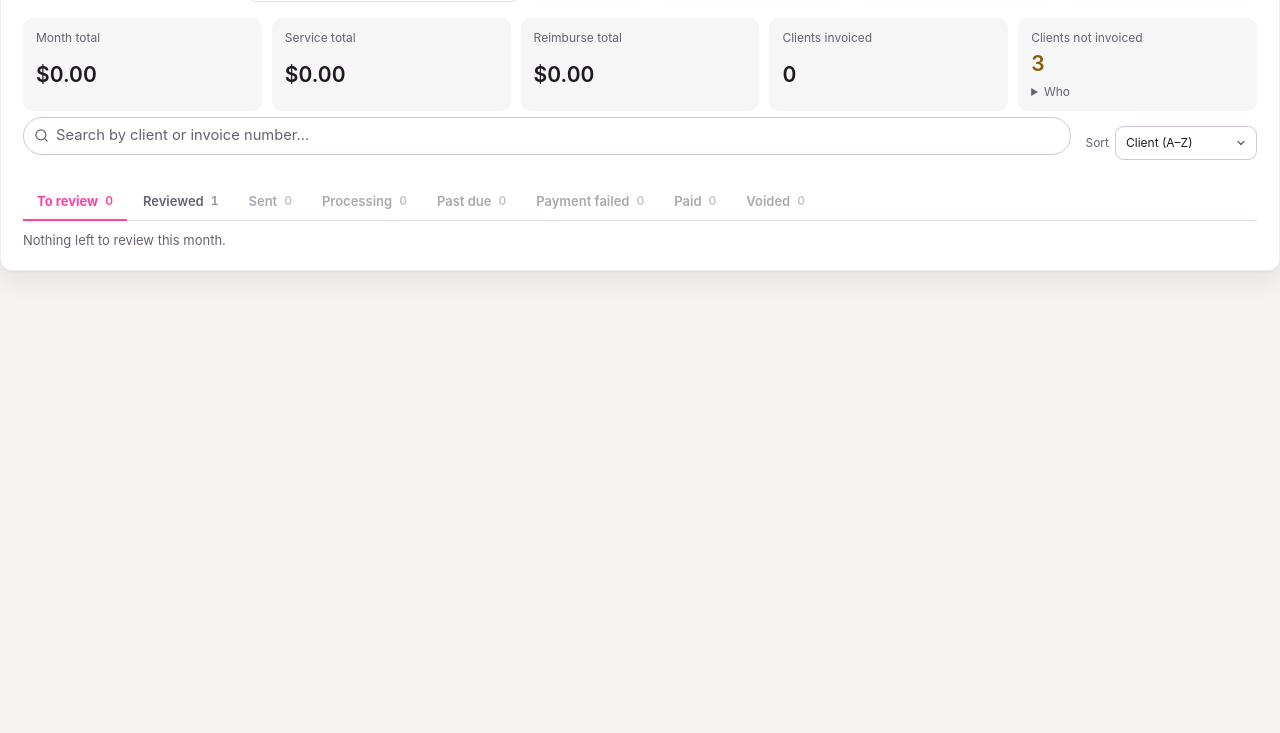
InvoiceMonthRun — who the invoice goes to › counts the recipients on the row and names them in the editor
The width and height of the screenshot is (1280, 733).
Click the tab "Reviewed 1": (181, 202) [129,182,232,221]
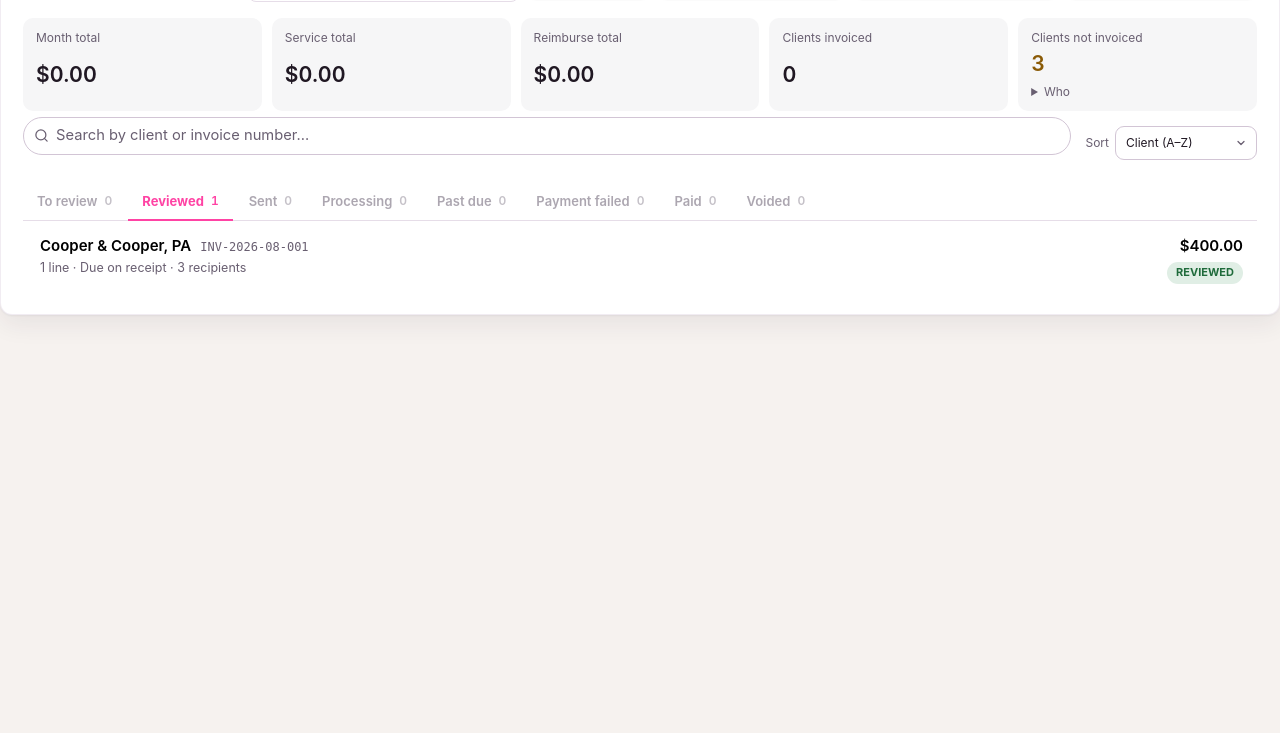
Click the text "INV-2026-08-001": (254, 248) [200,239,309,257]
(page scrolled)
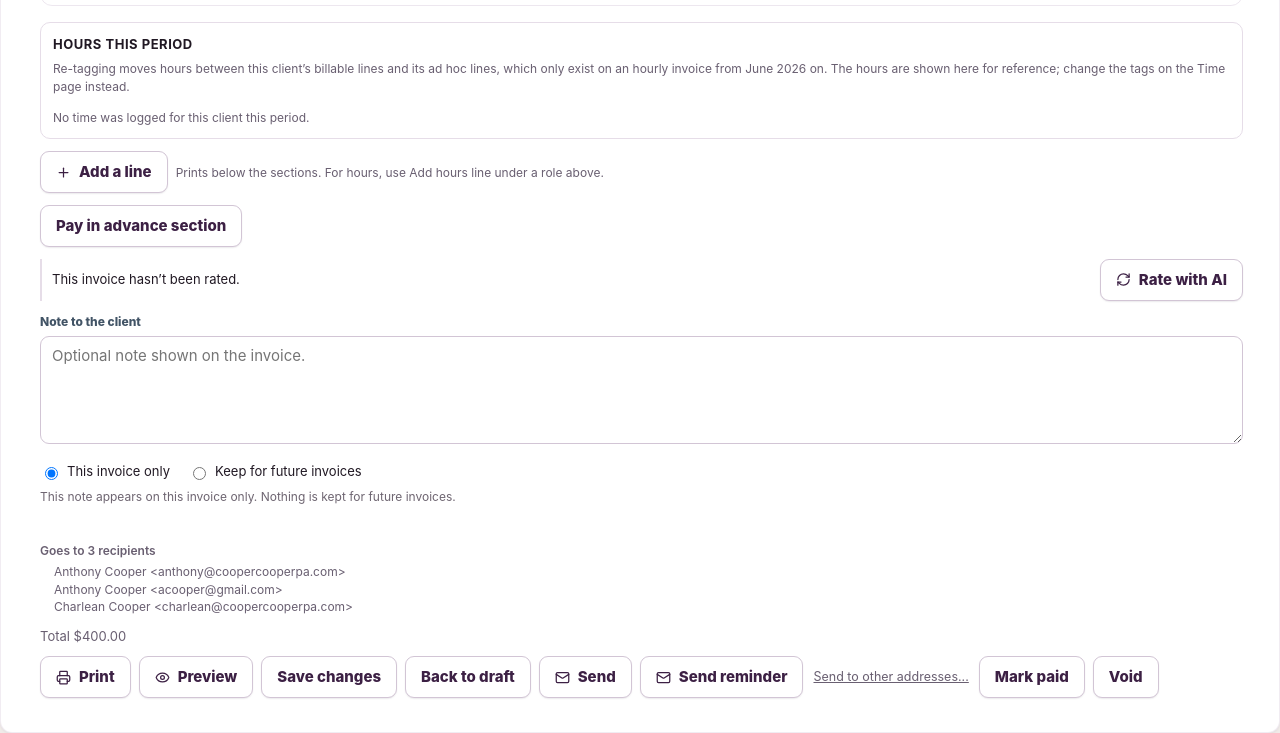
Now the text "3 recipients" is shown 2 times
Now the list item "Anthony Cooper <anthony@coopercooperpa.com>" is shown, box [54,564,346,579]
Now the list item "Anthony Cooper <acooper@gmail.com>" is shown, box [54,582,283,596]
